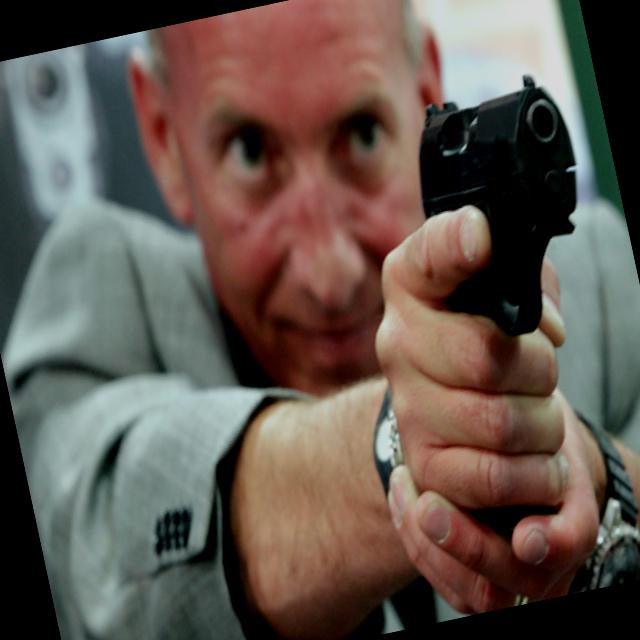handgun: (351, 70, 624, 399)
